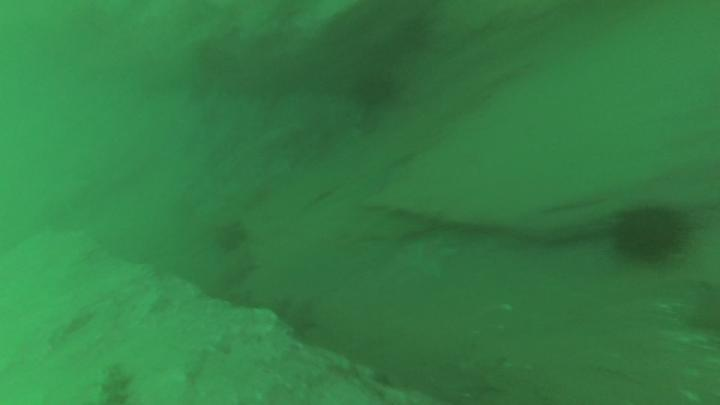echinus: (598, 194, 697, 271)
